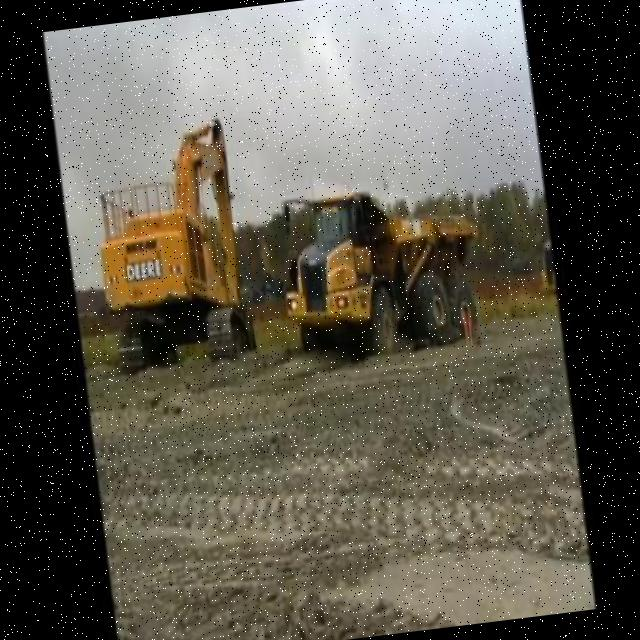Dump Truck: (268, 150, 492, 370)
Excavator: (79, 103, 261, 377)
